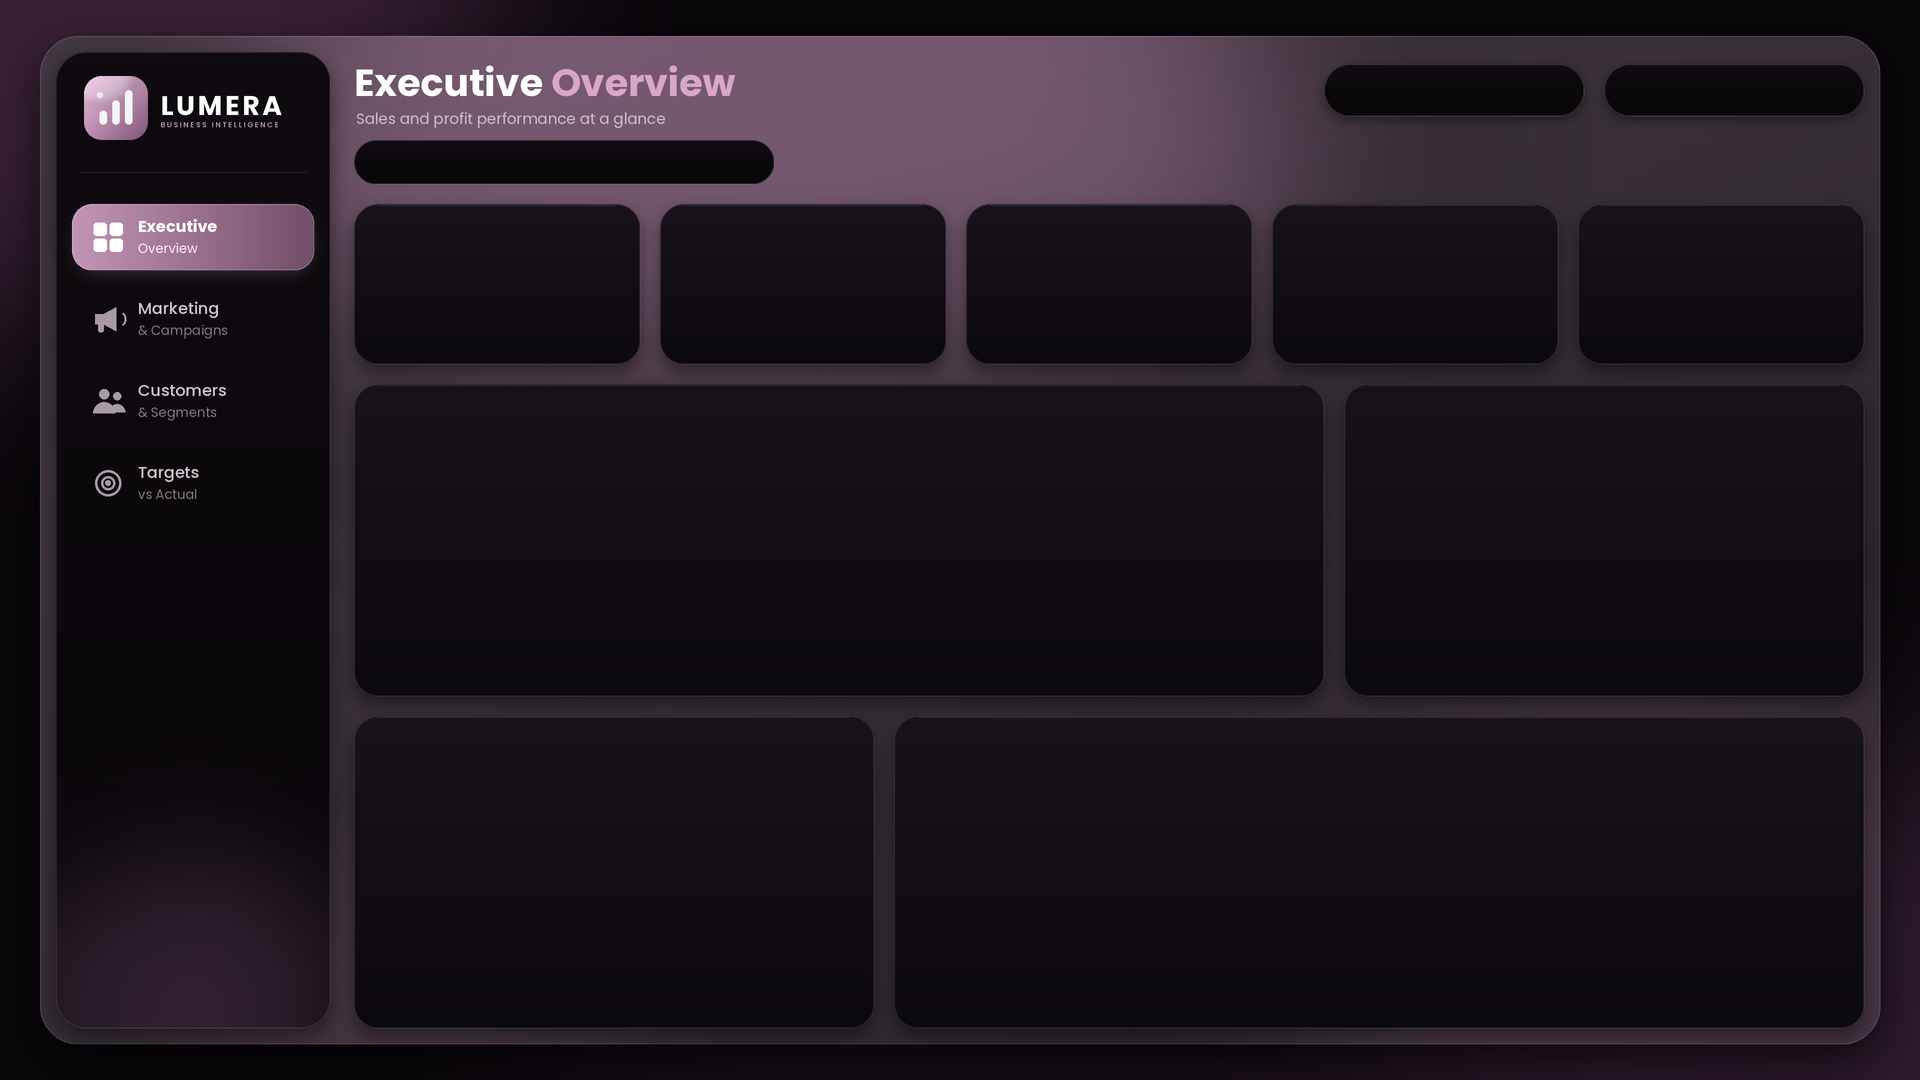

What the dashboard file says about the page in this screenshot:
{"tool":"powerbi","page":{"name":"Executive Overview","canvas":[1280,720],"ordinal":0},"visuals":[{"type":"cardVisual","fields":{"Data":["_measures.Gross Sales"]},"box":[232.5,121.6,182.9,136.2],"z":0},{"type":"cardVisual","fields":{"Data":["_measures.Gross Profit"]},"box":[431.9,108,208.1,146.9],"z":1000},{"type":"cardVisual","fields":{"Data":["_measures.Gross Margin %"]},"box":[640,112.8,204,146.9],"z":2000},{"type":"cardVisual","fields":{"Data":["_measures.Avg Order Value"]},"box":[844.3,104.7,233.5,161],"z":3000},{"type":"cardVisual","fields":{"Data":["_measures.Target Attainment %"]},"box":[1051.4,108,228.6,157.6],"z":4000},{"type":"lineChart","title":"Net Sales per Month","fields":{"Category":["dim_date.Month_name"],"Y":["_measures.Net Sales"]},"box":[897.8,258.7,346.3,218.8],"z":5000},{"type":"lineStackedColumnComboChart","title":"Gross Profit and  Margin % per Month","fields":{"Category":["dim_date.Month_name"],"Y":["_measures.Gross Profit"],"Y2":["_measures.Gross Margin %"]},"box":[598.7,484,638,205.3],"z":6000},{"type":"lineChart","title":"Target Attainment % per Month","fields":{"Category":["dim_date.Month_name"],"Y":["_measures.Target Attainment %"]},"box":[238.9,477.8,351.1,219.9],"z":7000},{"type":"scatterChart","title":"Net Sales, Gross Margin % and Units Sold by product","fields":{"Category":["dim_product.product_name"],"Size":["_measures.Units Sold"],"X":["_measures.Net Sales"],"Y":["_measures.Gross Margin %"]},"box":[239.3,258.7,636.1,202.3],"z":8000},{"type":"pageNavigator","box":[39.9,121.6,175.1,226.6],"z":8001},{"type":"slicer","fields":{"Values":["dim_date.year"]},"box":[885.3,35.6,166.2,54.2],"z":8002},{"type":"slicer","fields":{"Values":["dim_geo.region"]},"box":[1071.1,35.6,173.3,54.2],"z":8003},{"type":"htmlContent443BE3AD55E043BF878BED274D3A6855","fields":{"content":["_measures.Animated Name"]},"box":[222.2,86.2,336,48],"z":8004}]}

Visuals, with their boxes in screenshot pixels (x1, y1, x2, y2), scaled from the page's 1280x720 canvas onto the 1920x1080 screenshot:
cardVisual - _measures.Gross Sales: bbox(349, 182, 623, 387)
cardVisual - _measures.Gross Profit: bbox(648, 162, 960, 382)
cardVisual - _measures.Gross Margin %: bbox(960, 169, 1266, 390)
cardVisual - _measures.Avg Order Value: bbox(1266, 157, 1617, 399)
cardVisual - _measures.Target Attainment %: bbox(1577, 162, 1919, 398)
"Net Sales per Month" lineChart: bbox(1347, 388, 1866, 716)
"Gross Profit and  Margin % per Month" lineStackedColumnComboChart: bbox(898, 726, 1855, 1034)
"Target Attainment % per Month" lineChart: bbox(358, 717, 885, 1047)
"Net Sales, Gross Margin % and Units Sold by product" scatterChart: bbox(359, 388, 1313, 692)
pageNavigator: bbox(60, 182, 322, 522)
slicer - dim_date.year: bbox(1328, 53, 1577, 135)
slicer - dim_geo.region: bbox(1607, 53, 1867, 135)
htmlContent443BE3AD55E043BF878BED274D3A6855 - _measures.Animated Name: bbox(333, 129, 837, 201)
